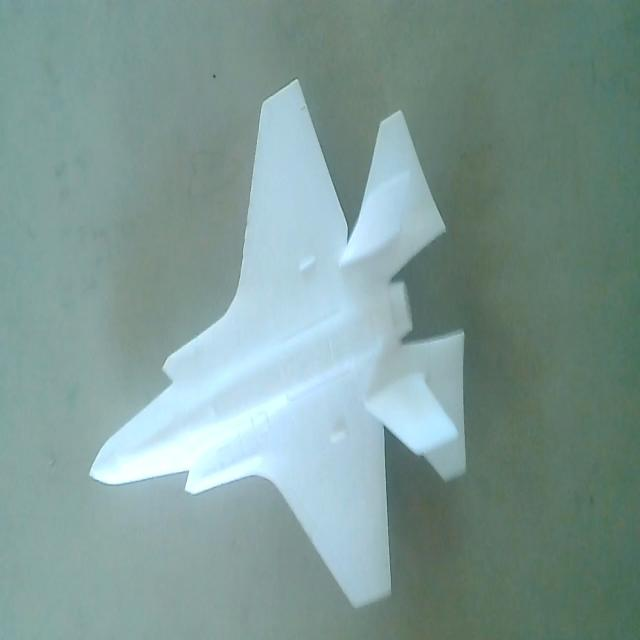Jet: (83, 75, 476, 620)
